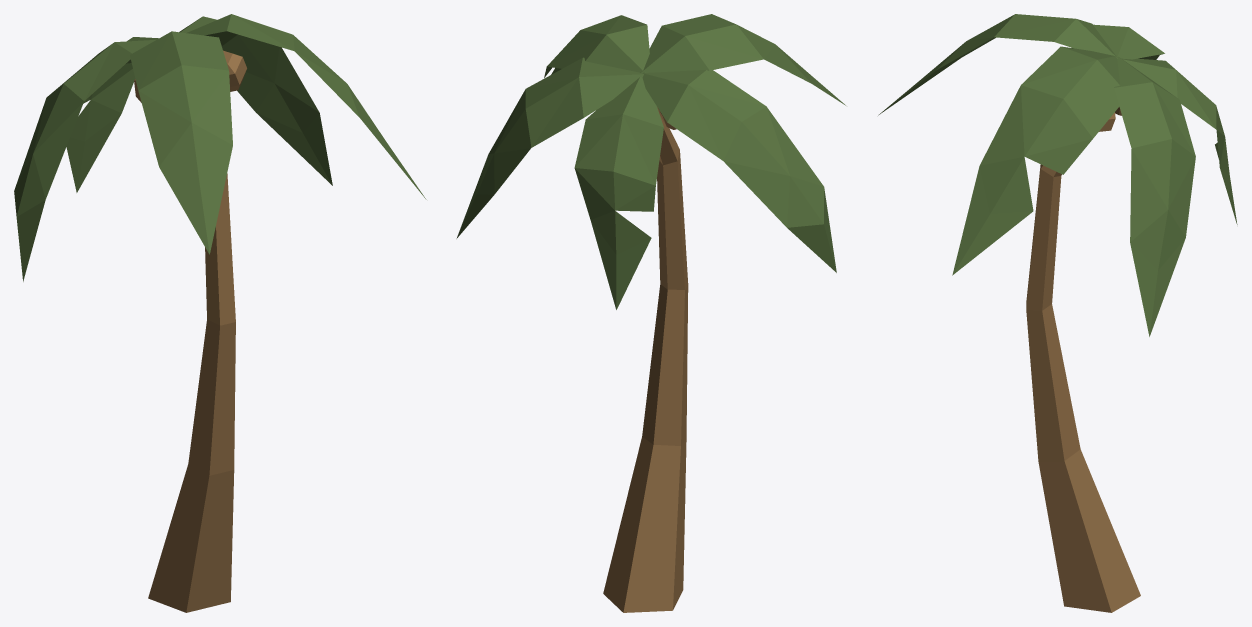
File: tree_palm_01.fbx
3 views of the same model, side by side, from view 1: azimuth 30°, elevation 25°; view 2: azimuth 150°, elevation 25°; view 3: azimuth 270°, elevation 25° (orthographic). The views are drawn at different scales.
Parts seen in each view (by area): view 1: tree_palm_01; view 2: tree_palm_01; view 3: tree_palm_01.
Part boxes in pixels (box(x1,y1,x2,y2)): tree_palm_01: box(14, 14, 426, 612); tree_palm_01: box(456, 14, 845, 612); tree_palm_01: box(878, 14, 1237, 612).
Bounding box in the file's own units: 419 × 660 × 384.
